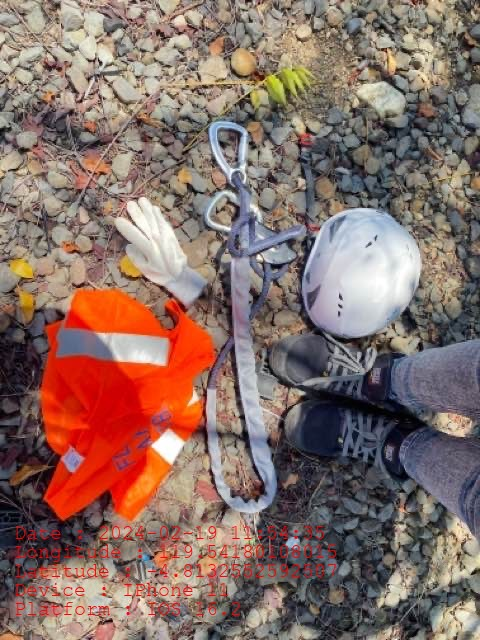HELM: (303, 208, 421, 338)
ROMPI: (43, 290, 214, 521)
SARUNG_TANGAN: (115, 196, 205, 303)
